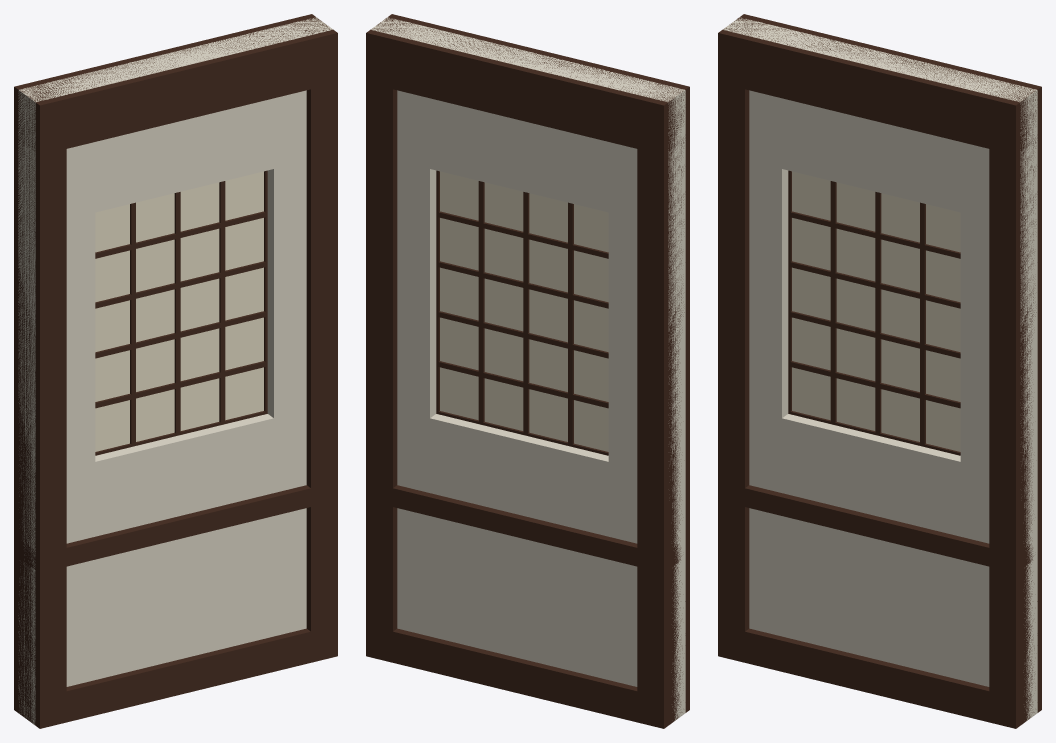
Rendered from jap-parede-janela.gltf.
3 renders of one model, left to right at view 1: azimuth 30°, elevation 25°; view 2: azimuth 150°, elevation 25°; view 3: azimuth 330°, elevation 25°, orthographic.
Parts seen in each view (by area): view 1: jap-parede-janela; view 2: jap-parede-janela; view 3: jap-parede-janela.
Boxes of the visible parts, left/top/right/bottom form: jap-parede-janela: left=14, top=14, right=337, bottom=728; jap-parede-janela: left=366, top=14, right=689, bottom=728; jap-parede-janela: left=718, top=14, right=1041, bottom=728.
Bounding box in the file's own units: 1 × 2 × 0.15.
